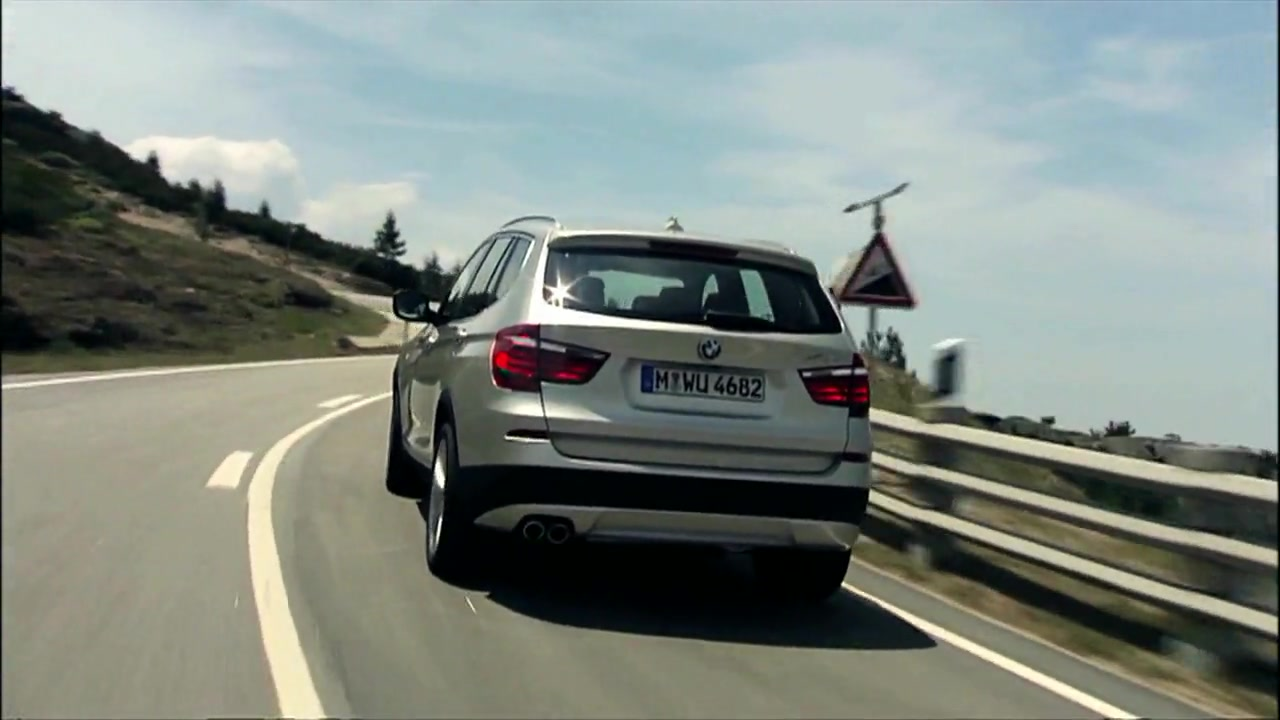car: (382, 219, 883, 595)
